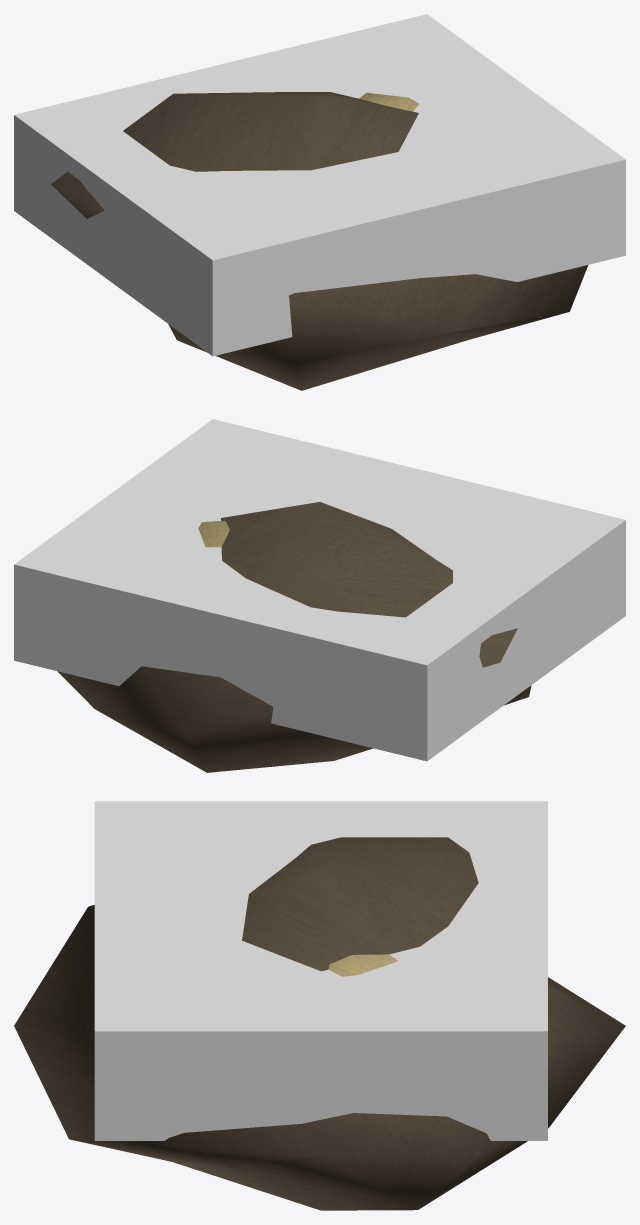
The model's file is dung_heap.glb.
3 views of the same model, one above another, from view 1: azimuth 30°, elevation 25°; view 2: azimuth 150°, elevation 25°; view 3: azimuth 270°, elevation 25° (orthographic). The views are drawn at different scales.
Visible parts, largest first — view 1: COL_HULL_dung, dung_heap; view 2: COL_HULL_dung, dung_heap; view 3: COL_HULL_dung, dung_heap.
Boxes of the visible parts, x1=… form: COL_HULL_dung: x1=14, y1=14, x2=625, y2=356; dung_heap: x1=51, y1=92, x2=588, y2=390; COL_HULL_dung: x1=14, y1=419, x2=625, y2=761; dung_heap: x1=57, y1=502, x2=531, y2=772; COL_HULL_dung: x1=94, y1=801, x2=547, y2=1140; dung_heap: x1=14, y1=837, x2=625, y2=1210.
Size of the model in its own units: 2.01 by 0.9381 by 2.02.
Materials: 2 (2 with a texture image).
